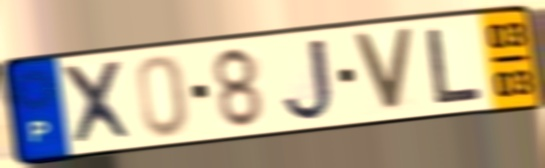0: (133, 51, 193, 140)
8: (209, 45, 269, 131)
J: (280, 35, 337, 125)
L: (423, 25, 485, 107)
V: (348, 26, 417, 114)
X: (57, 57, 139, 149)
